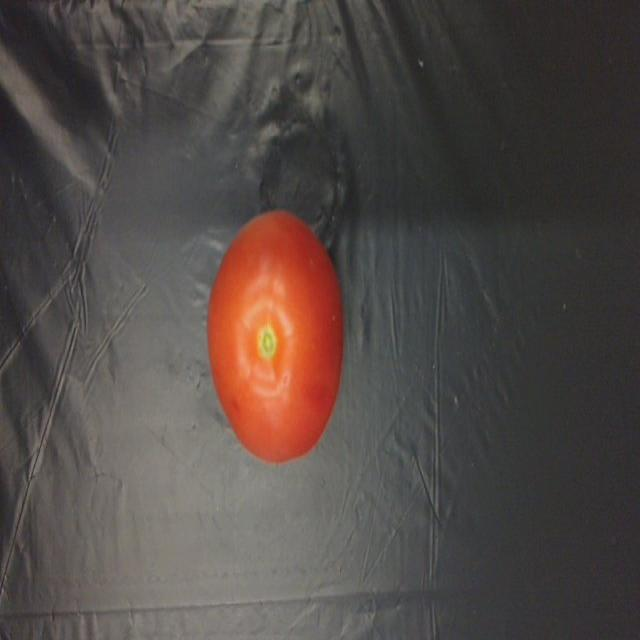kirmizi: (207, 172, 346, 466)
